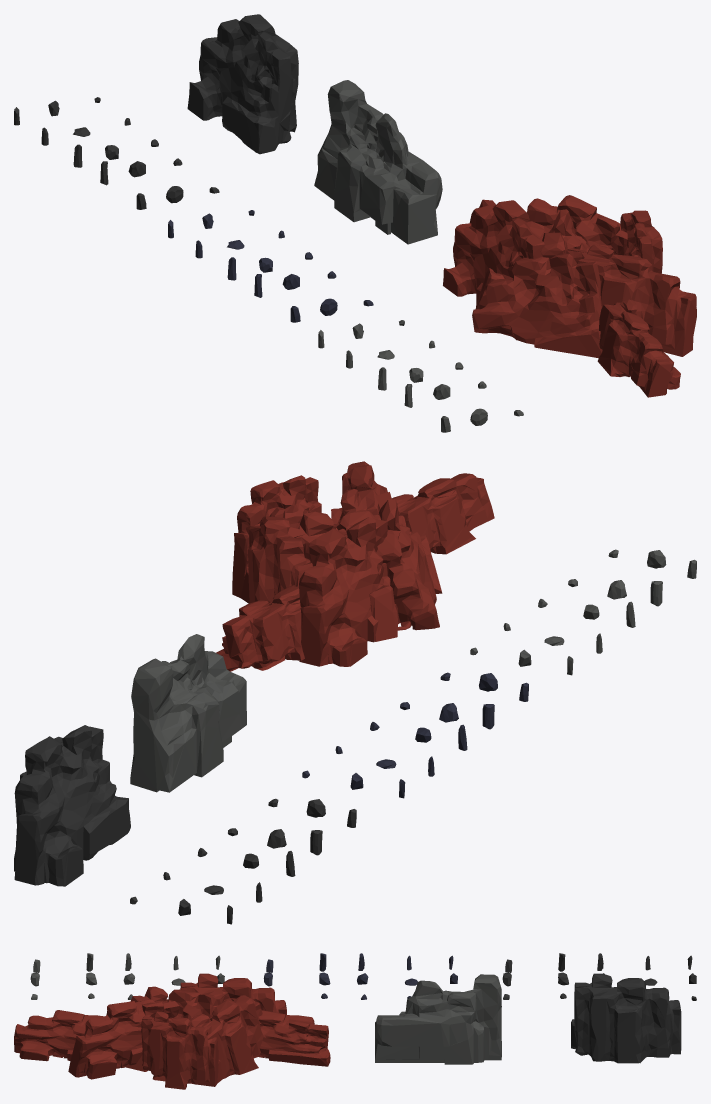
3 renders of one model, top to bottom at view 1: azimuth 30°, elevation 25°; view 2: azimuth 150°, elevation 25°; view 3: azimuth 270°, elevation 25°, orthographic. The views are drawn at different scales.
Visible parts, largest first — view 1: hill1.003_0, hill1_2, hill_4; view 2: hill1.003_0, hill_4, hill1_2; view 3: hill1.003_0, hill1_2, hill_4.
Boxes of the visible parts, x1=… form: hill1.003_0: x1=443, y1=195, x2=696, y2=397; hill1_2: x1=314, y1=80, x2=442, y2=244; hill_4: x1=187, y1=14, x2=298, y2=154; hill1.003_0: x1=216, y1=461, x2=494, y2=671; hill_4: x1=14, y1=725, x2=130, y2=886; hill1_2: x1=130, y1=634, x2=246, y2=792; hill1.003_0: x1=14, y1=973, x2=330, y2=1089; hill1_2: x1=375, y1=974, x2=501, y2=1064; hill_4: x1=571, y1=973, x2=681, y2=1063.
Size of the model in its own units: 34.9 by 11.16 by 84.53.
Materials: 1 (1 with a texture image).
